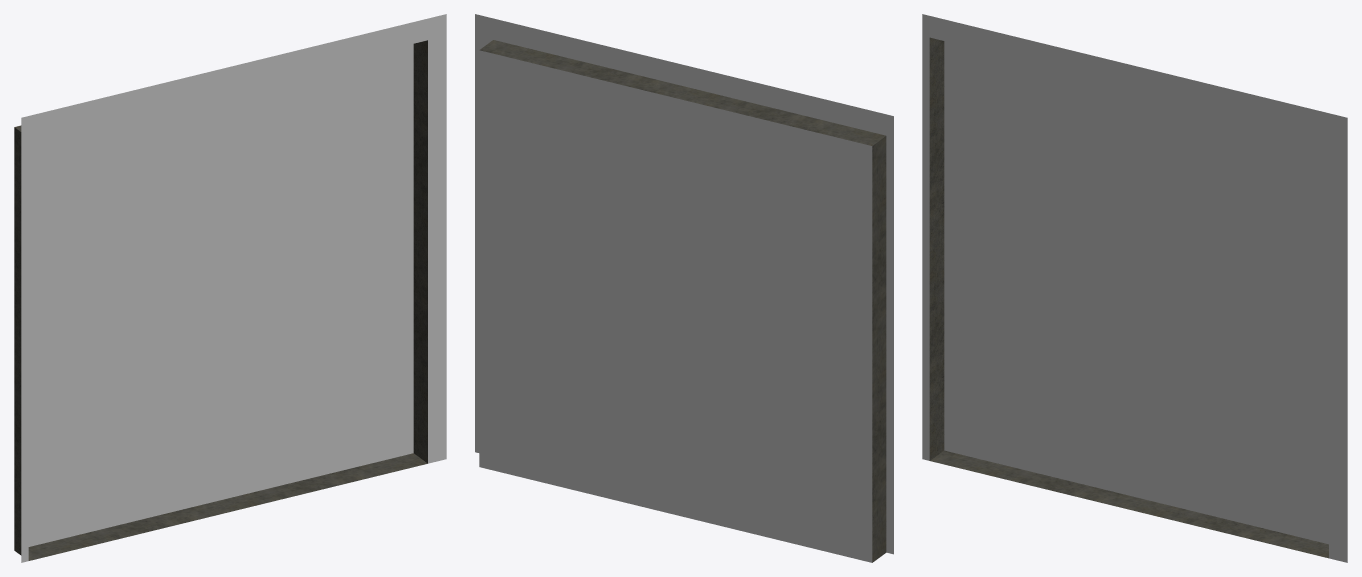
Rendered from CT_door_05.fbx.
The picture shows the model from 3 angles, left to right: view 1: azimuth 30°, elevation 25°; view 2: azimuth 150°, elevation 25°; view 3: azimuth 330°, elevation 25°; orthographic projection.
Visible parts, largest first — view 1: CT_door_05; view 2: CT_door_05; view 3: CT_door_05.
Part boxes in pixels (left/top/right/bottom): CT_door_05: left=14, top=14, right=446, bottom=562; CT_door_05: left=475, top=14, right=893, bottom=562; CT_door_05: left=922, top=14, right=1347, bottom=562.
Size of the model in its own units: 256 by 256 by 15.
